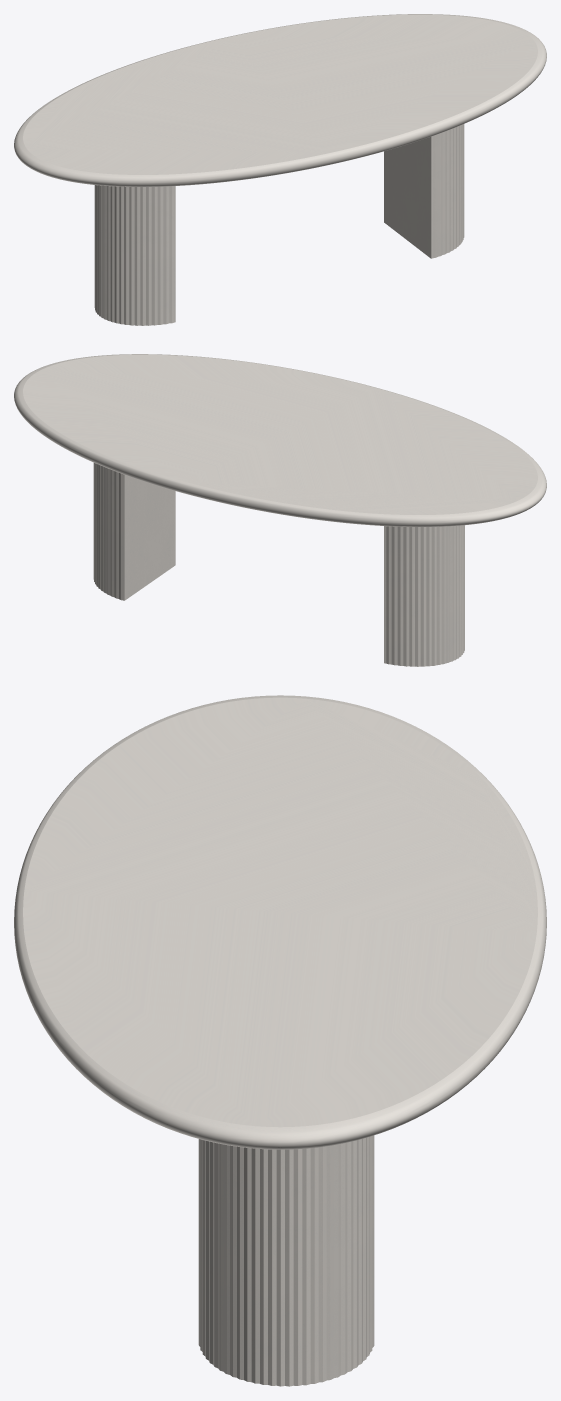
Rendered from pearlwhite_ellips_round_flute.glb.
The picture shows the model from 3 angles, top to bottom: view 1: azimuth 30°, elevation 25°; view 2: azimuth 150°, elevation 25°; view 3: azimuth 270°, elevation 25°; orthographic projection. The views are drawn at different scales.
Visible parts, largest first — view 1: round_ellips, flute; view 2: round_ellips, flute; view 3: round_ellips, flute.
Boxes of the visible parts, x1,y1,x2,y2 form: round_ellips: (14, 14, 546, 186); flute: (94, 124, 464, 325); round_ellips: (14, 354, 546, 526); flute: (93, 463, 464, 666); round_ellips: (14, 695, 546, 1149); flute: (198, 1135, 374, 1386).
Size of the model in its own units: 7.5 by 2.5 by 3.8.
Materials: 1 (1 with a texture image).
